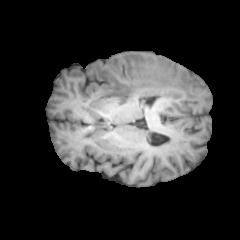glioma: (95, 52, 199, 105)
